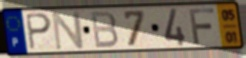4: (163, 6, 188, 48)
7: (123, 9, 147, 49)
B: (89, 10, 120, 50)
F: (188, 7, 217, 46)
N: (50, 10, 86, 52)
P: (24, 12, 54, 52)
